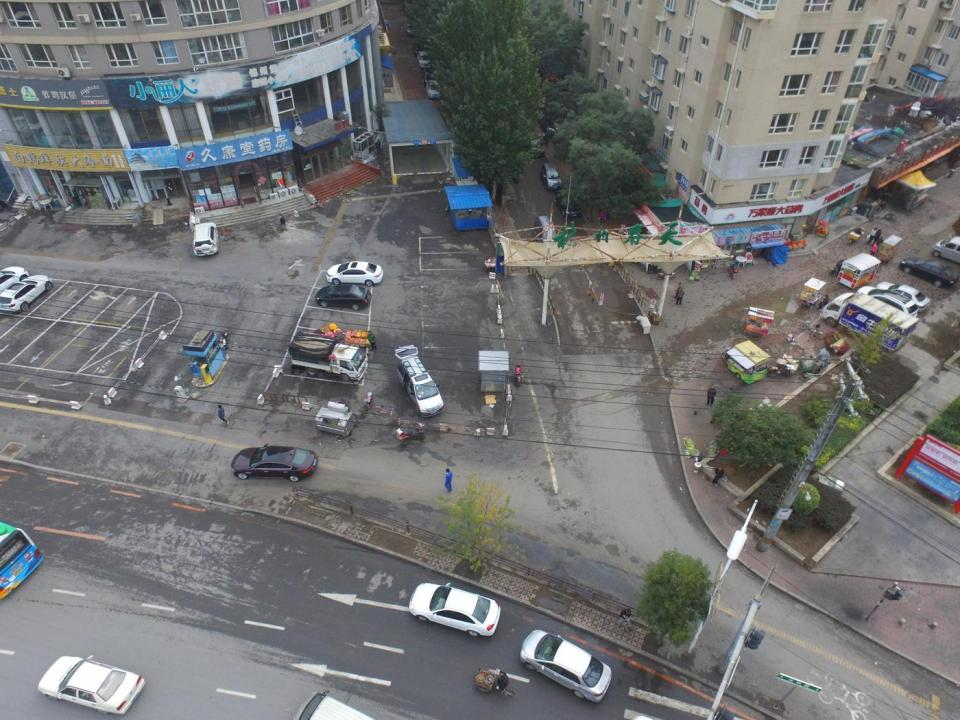car: (520, 629, 612, 702), (38, 654, 145, 715), (821, 292, 919, 353), (408, 582, 500, 638), (230, 444, 318, 481), (857, 285, 918, 320), (0, 275, 52, 311), (900, 256, 958, 288), (876, 282, 930, 314), (315, 283, 372, 309), (327, 262, 384, 287), (0, 265, 31, 303), (191, 223, 219, 256), (554, 190, 580, 217), (424, 80, 441, 98), (415, 51, 430, 68), (412, 42, 424, 57), (422, 68, 433, 84), (405, 23, 416, 36)
truck: (286, 330, 367, 380)
van: (394, 345, 443, 417), (534, 215, 556, 250), (540, 162, 562, 188)
